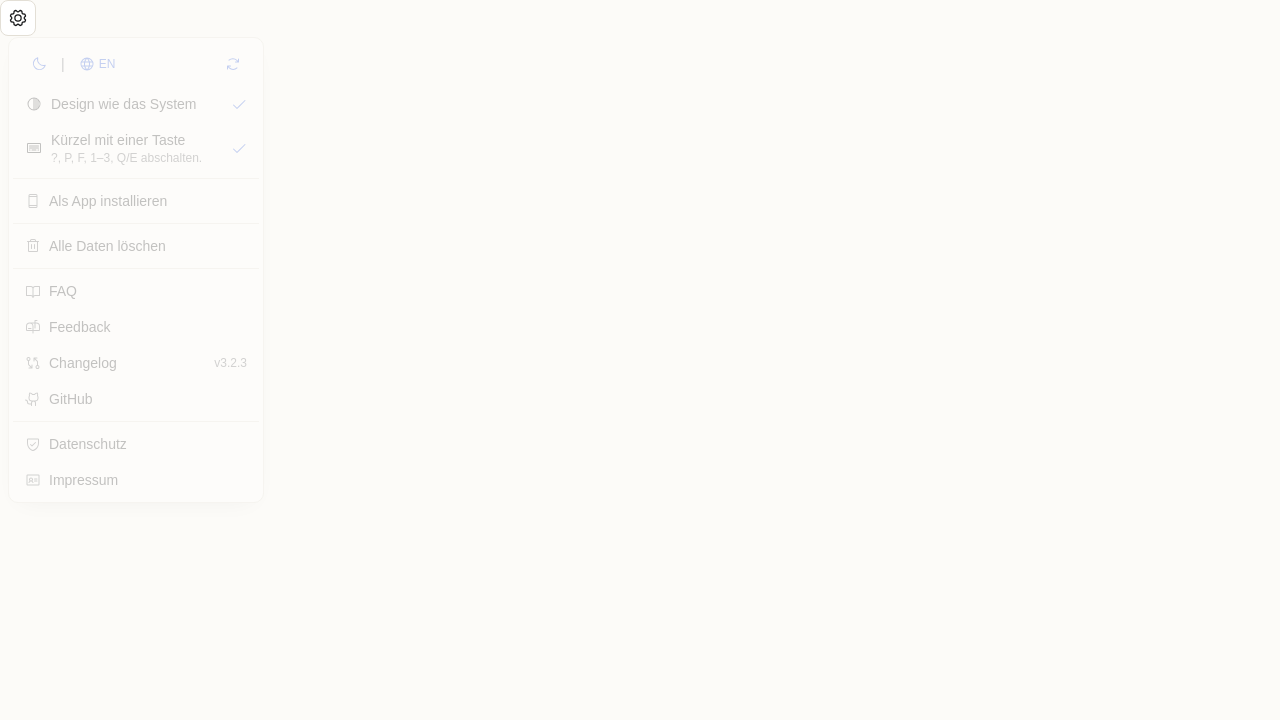
Test: AppSettingsMenu › opens /feedback with the way back into the app
This screenshot has width=1280, height=720.
Step 1. Click the button named "Einstellungen" → (18, 18), box [0, 0, 36, 36]
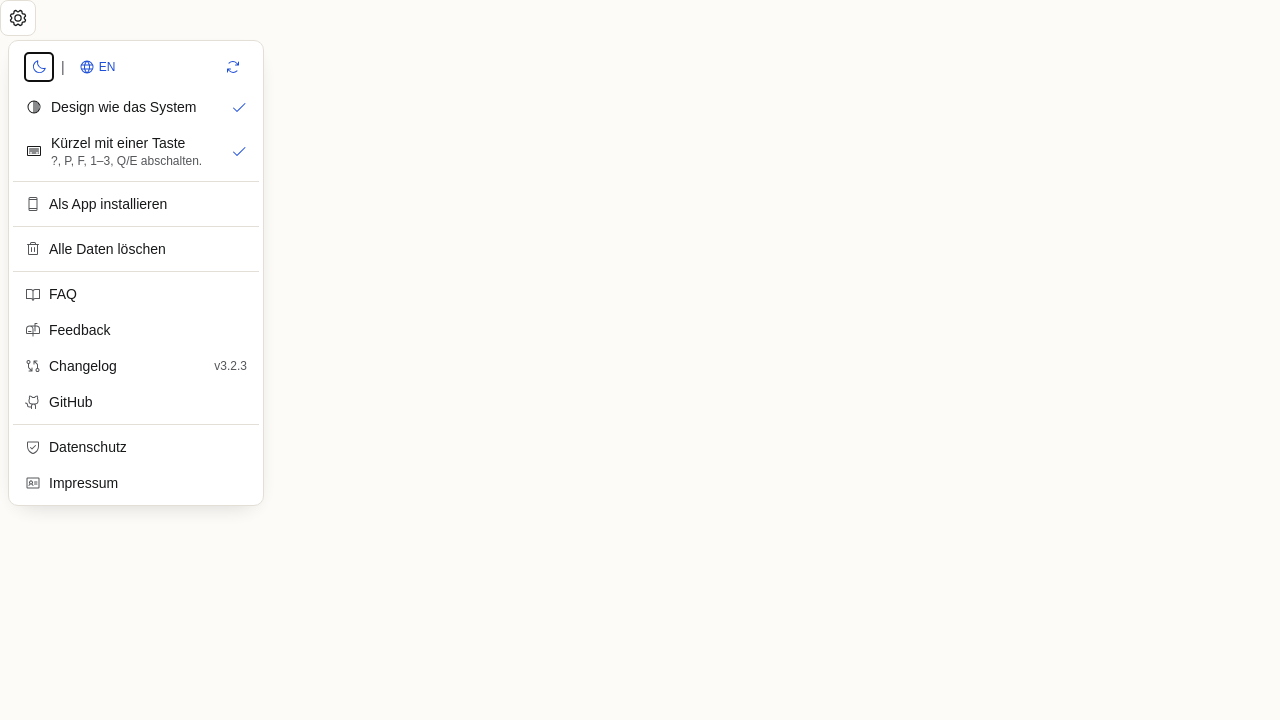
Expected: the button "Alle Daten löschen" is shown, [13, 231, 259, 267]
Step 2. Click the link "Feedback" → (68, 330), box [25, 322, 110, 338]
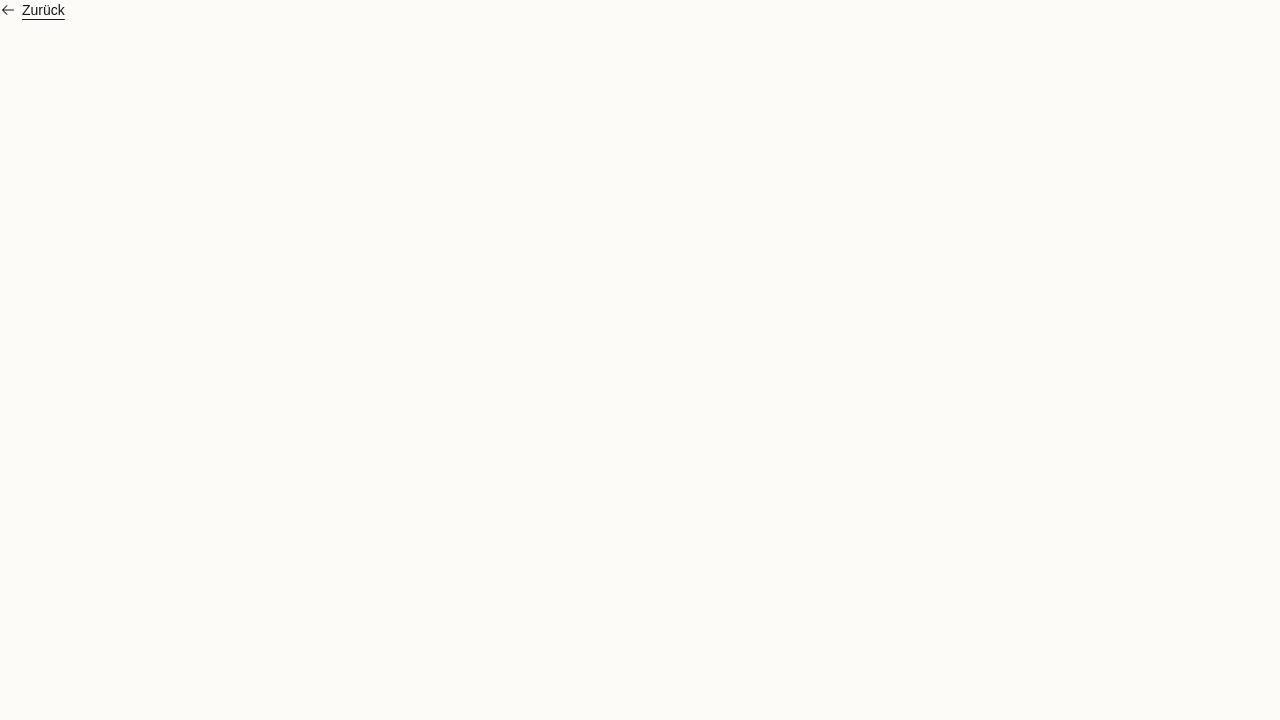
Result: the button "Zurück" is shown at [0, 0, 65, 20]
